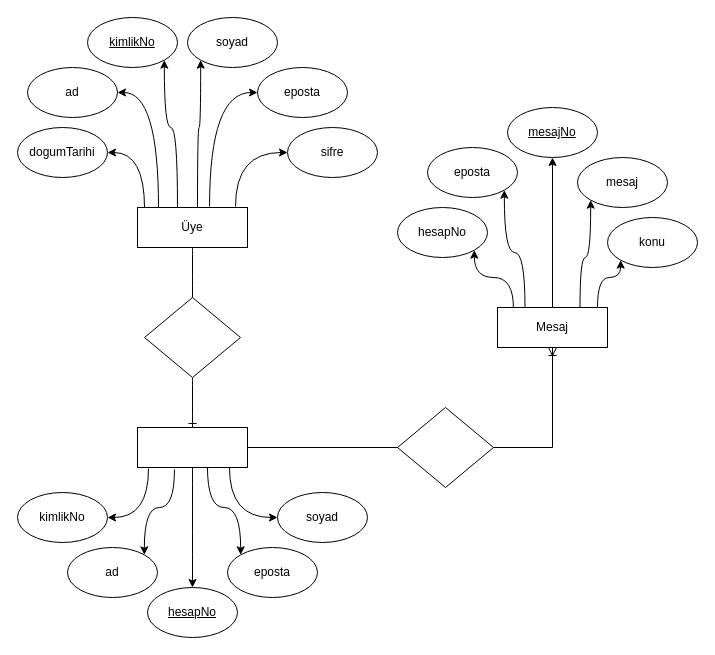
Image size: 715x655. Some labels were removed from this diagram. The centre of each missing label's shape, as x and y in pixels:
Atar: [445,447]
Açar: [192,337]
Hesap: [192,447]
